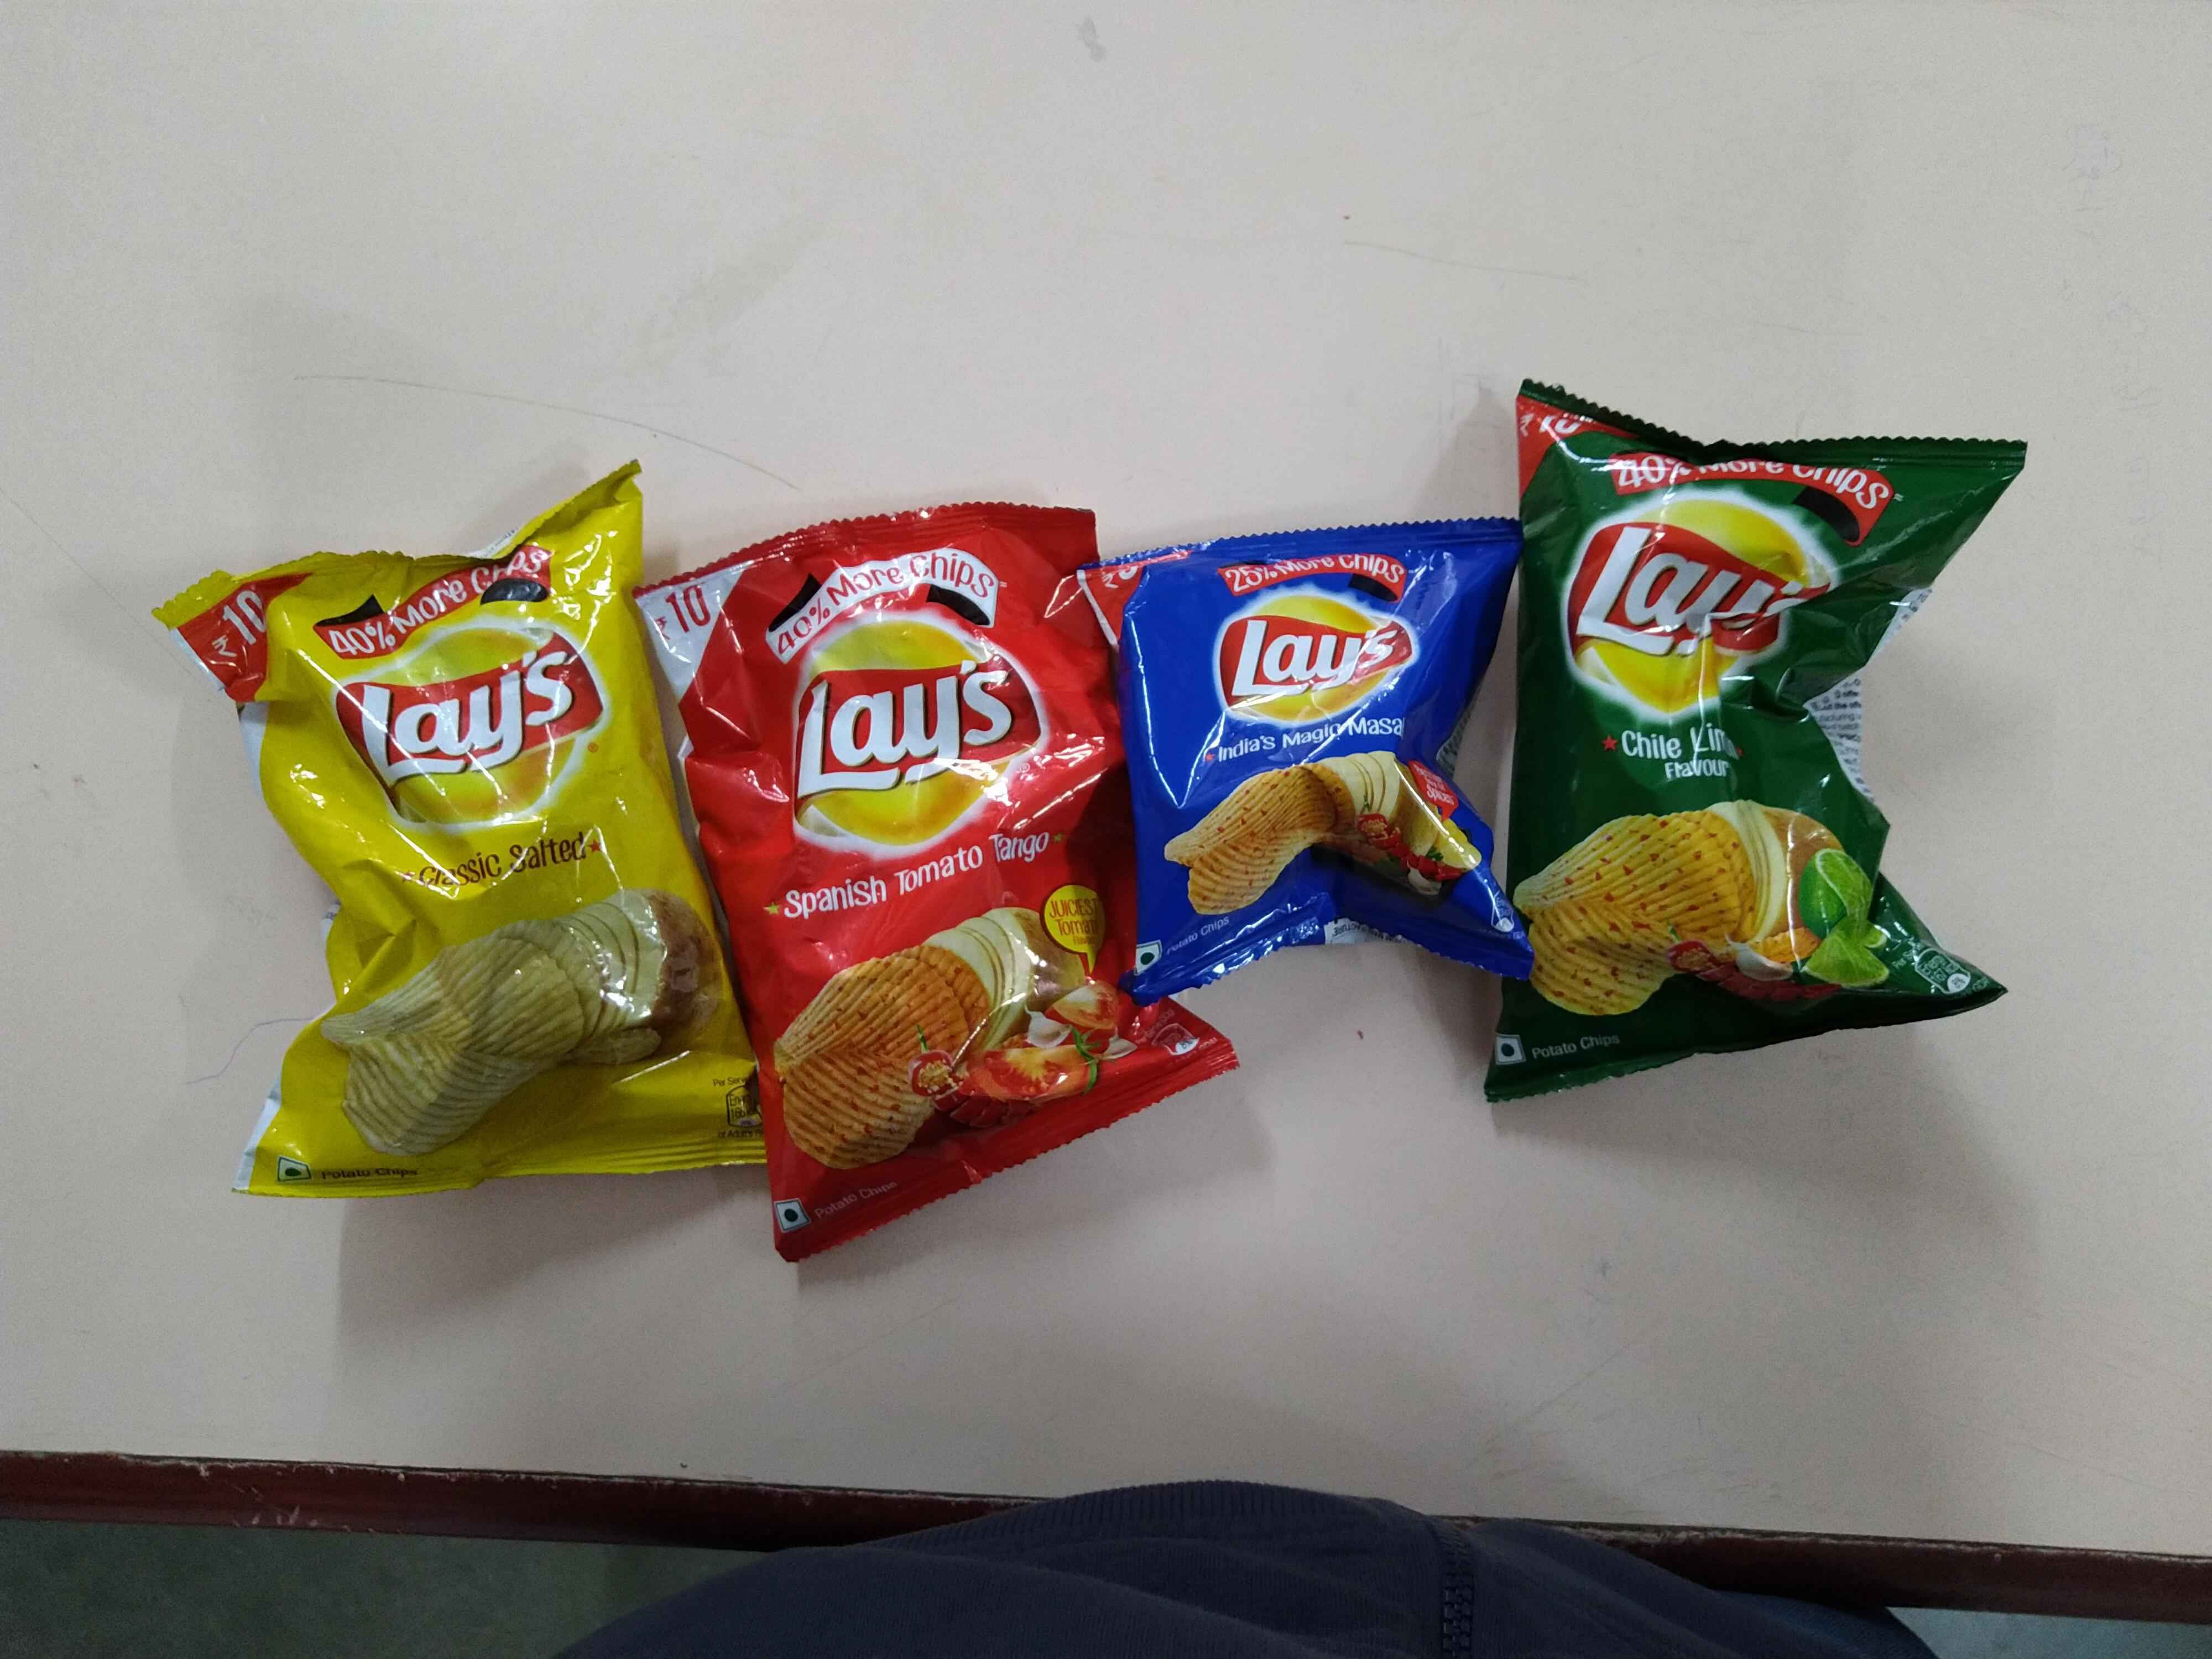Lays: (1550, 486, 1862, 732), (791, 606, 1049, 870), (334, 615, 615, 843), (1205, 582, 1440, 749)
